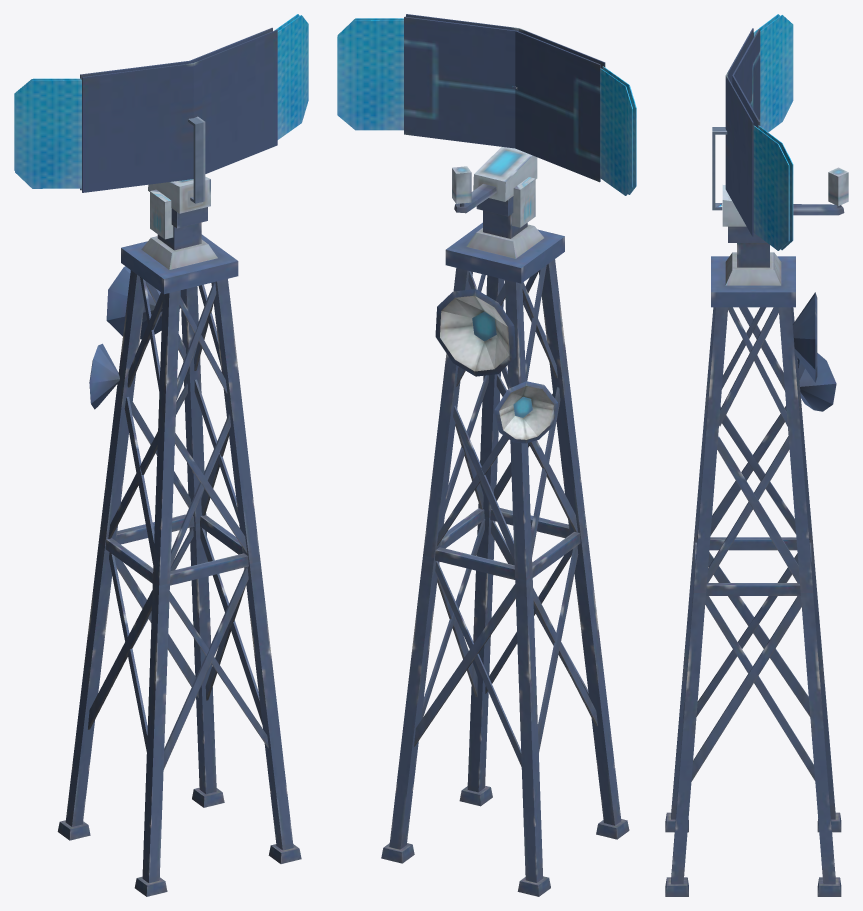
Rendered from Demo_xinhaota.FBX.
3 views of the same model, side by side, from view 1: azimuth 30°, elevation 25°; view 2: azimuth 150°, elevation 25°; view 3: azimuth 270°, elevation 25° (orthographic). The views are drawn at different scales.
Visible parts, largest first — view 1: Demo_xinhaota; view 2: Demo_xinhaota; view 3: Demo_xinhaota.
Boxes of the visible parts, bbox=[...] form: Demo_xinhaota: bbox=[14, 14, 308, 896]; Demo_xinhaota: bbox=[337, 14, 636, 896]; Demo_xinhaota: bbox=[665, 14, 848, 896].
Size of the model in its own units: 9.13 by 23.52 by 4.99.
